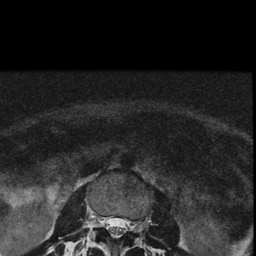CCS_normal: (113, 207, 120, 248)
LFS_normal: (128, 209, 138, 240)
LLS_normal: (120, 209, 128, 243)
RFS_normal: (95, 204, 104, 235)
RLS_normal: (104, 206, 113, 239)
